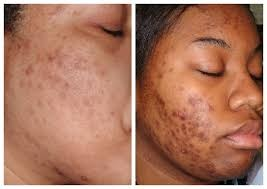Melasma: (92, 12, 236, 107), (10, 35, 92, 105)
